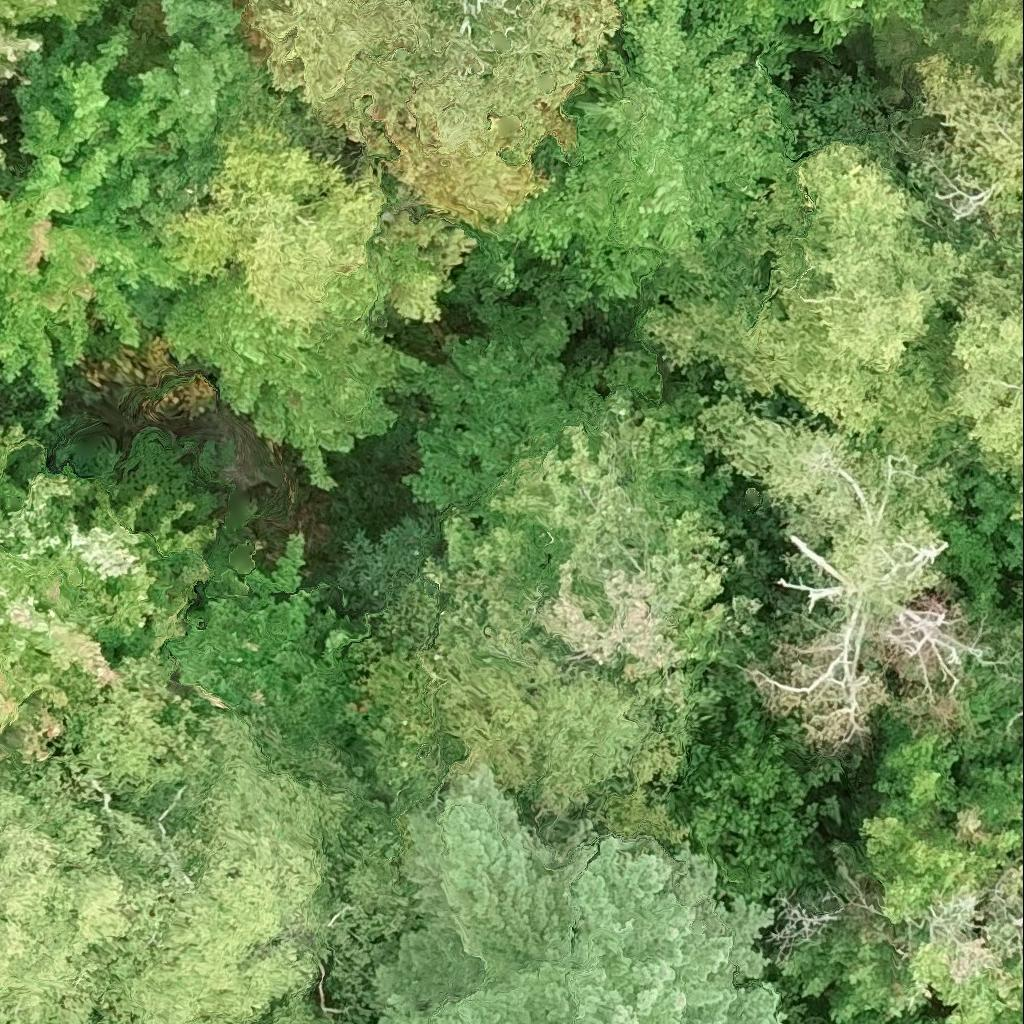crown: (0, 657, 335, 1023), (441, 387, 765, 737), (377, 765, 783, 1023), (697, 391, 984, 752), (637, 143, 968, 448), (0, 25, 243, 427), (484, 0, 792, 306), (163, 212, 471, 487), (0, 424, 221, 764), (250, 0, 623, 164), (398, 303, 666, 515), (135, 0, 351, 232), (162, 533, 363, 756), (168, 121, 384, 322), (897, 49, 1023, 280), (519, 665, 679, 817), (871, 730, 1023, 866), (377, 113, 548, 227), (906, 862, 1023, 1023), (857, 812, 1006, 926), (946, 262, 1023, 473), (877, 0, 1023, 92), (0, 0, 111, 84), (790, 0, 938, 52), (720, 0, 804, 53), (678, 0, 724, 41), (616, 0, 639, 48), (1007, 471, 1023, 521), (996, 1008, 1023, 1023), (641, 0, 661, 19), (0, 143, 8, 169), (1016, 55, 1023, 81), (0, 195, 8, 216), (1021, 225, 1023, 241)
